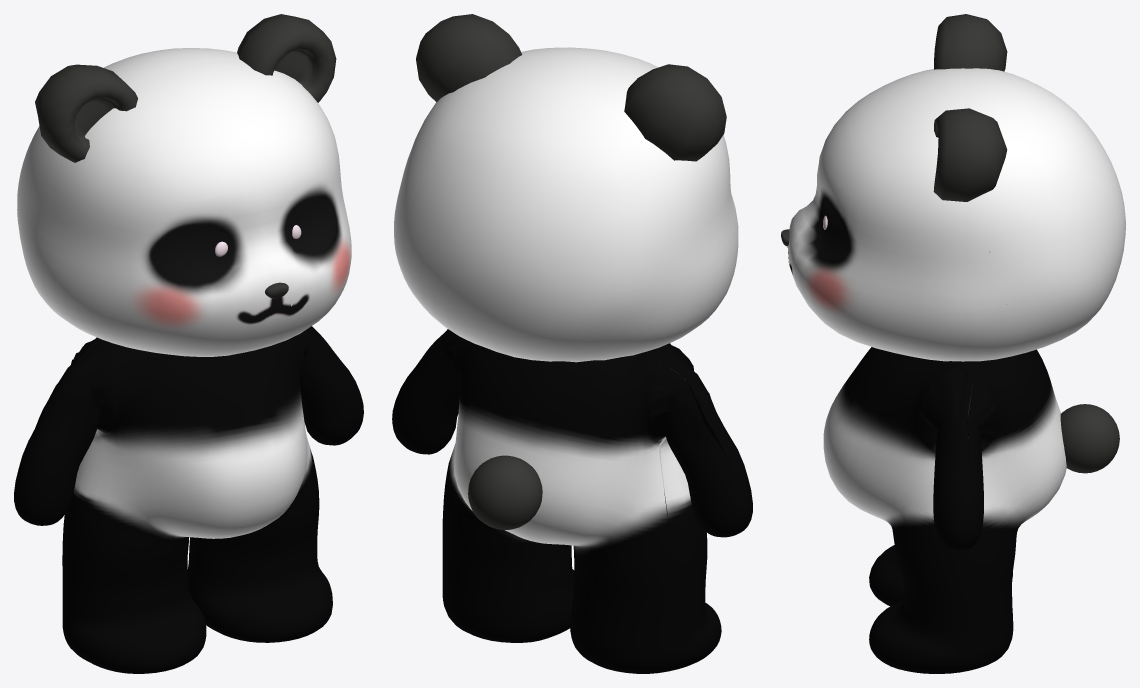
The model's file is panda.glb.
The picture shows the model from 3 angles, left to right: view 1: azimuth 30°, elevation 25°; view 2: azimuth 150°, elevation 25°; view 3: azimuth 270°, elevation 25°; orthographic projection. The views are drawn at different scales.
Parts seen in each view (by area): view 1: panda.002; view 2: panda.002; view 3: panda.002.
Part boxes in pixels (<box>): panda.002: <box>14,14,363,673</box>; panda.002: <box>392,14,752,673</box>; panda.002: <box>781,14,1125,673</box>.
Size of the model in its own units: 2.04 by 3.3 by 1.84.
Materials: 4 (2 with a texture image).
